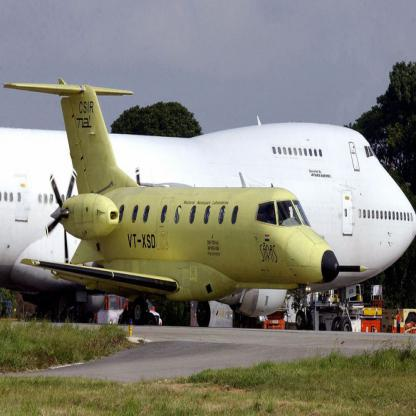CIV_Plane: (7, 75, 369, 342), (2, 114, 416, 334)
